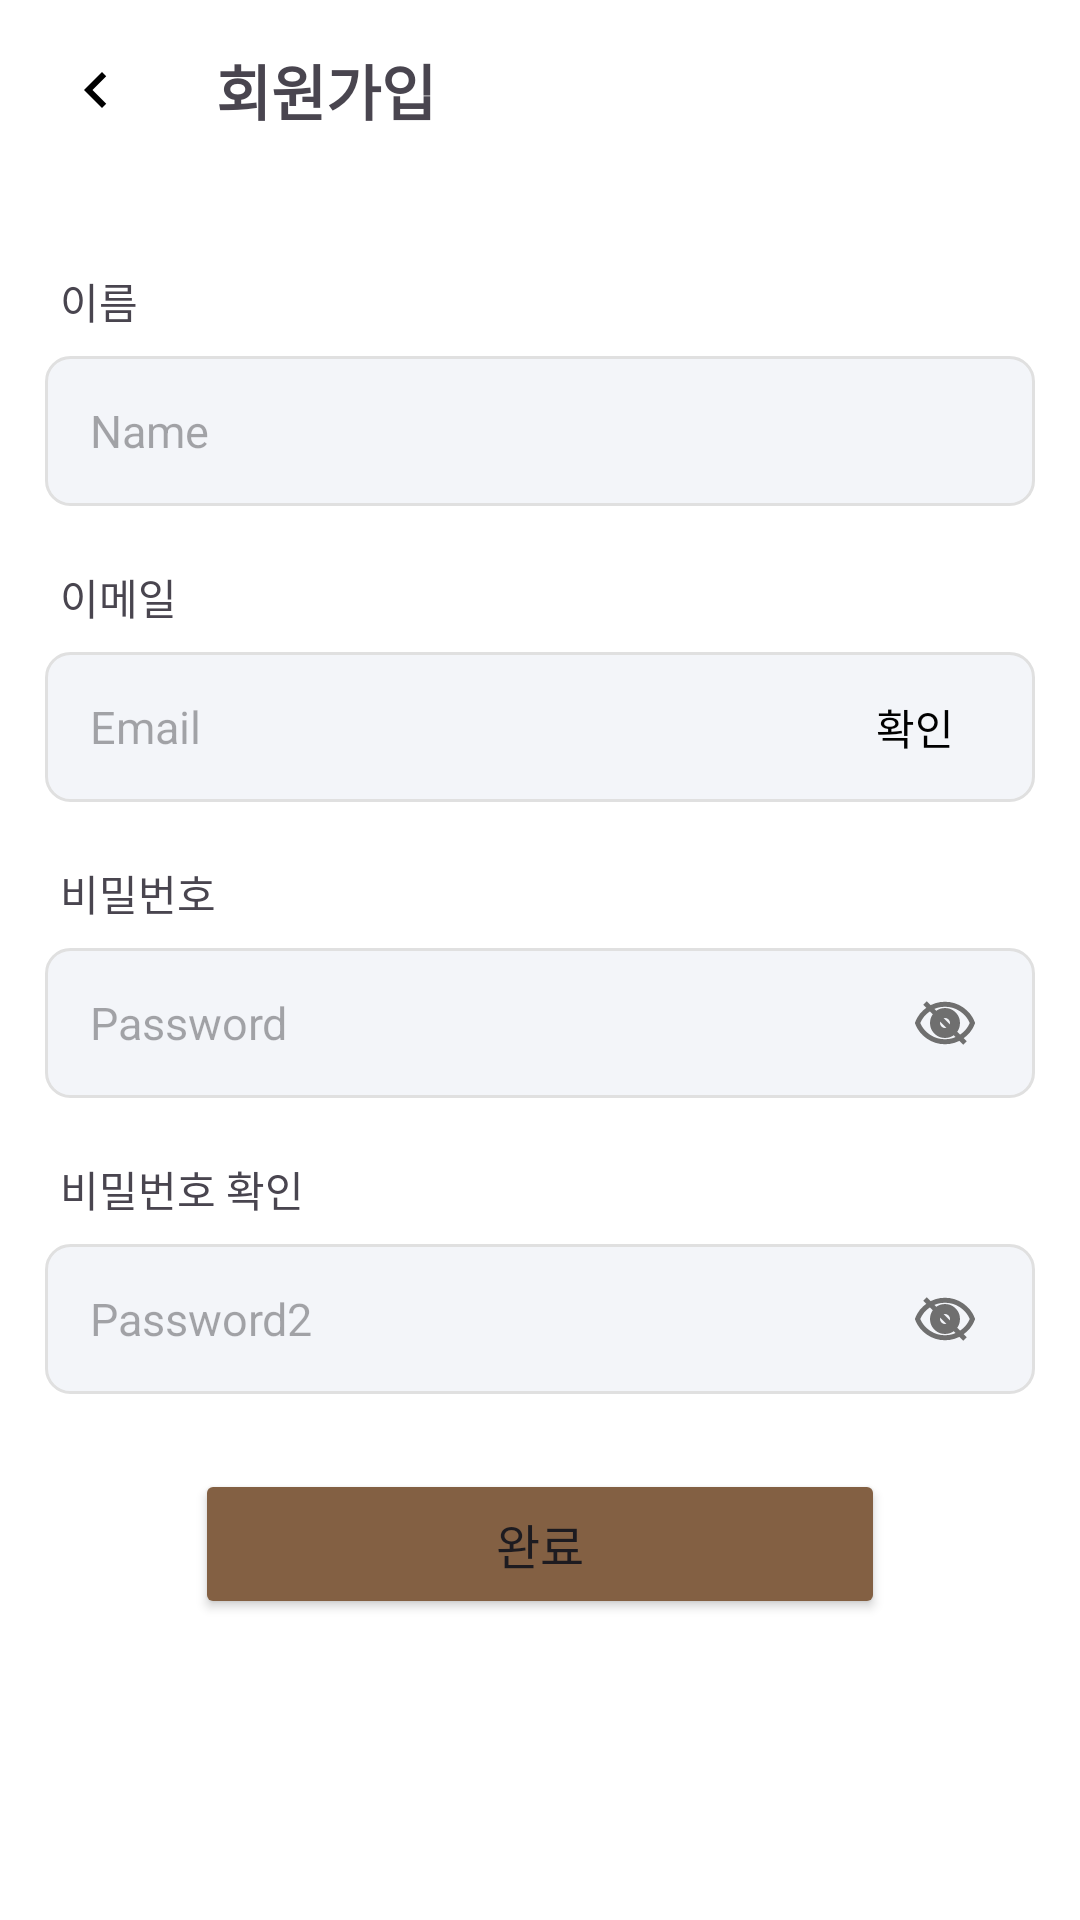

Icons on this 1080×1920 Android screen, each with its box as detection(x1, y1, x2, y2):
back: detection(84, 72, 106, 108)
